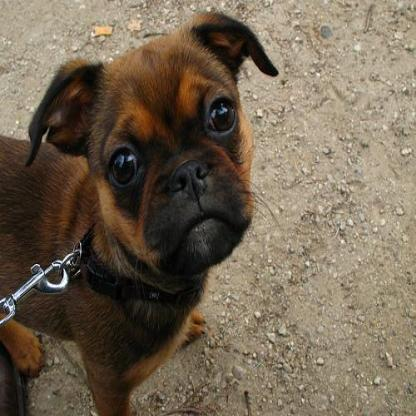Brabancon_griffon: (0, 9, 280, 414)
